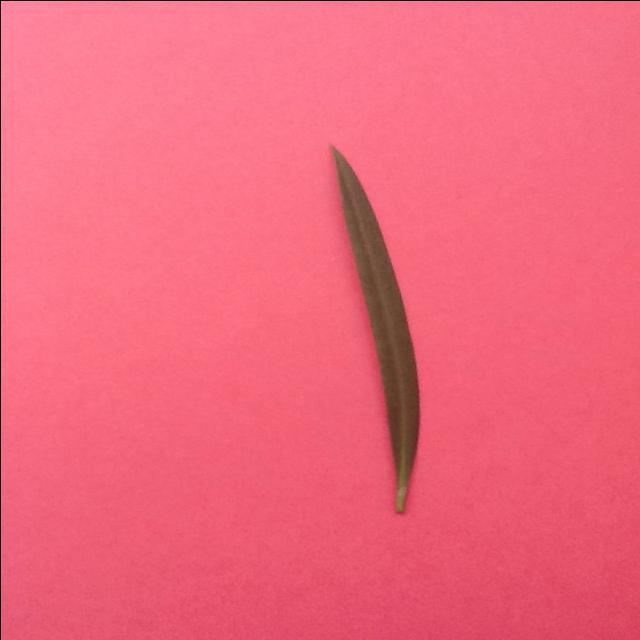foliage: (324, 140, 424, 515)
